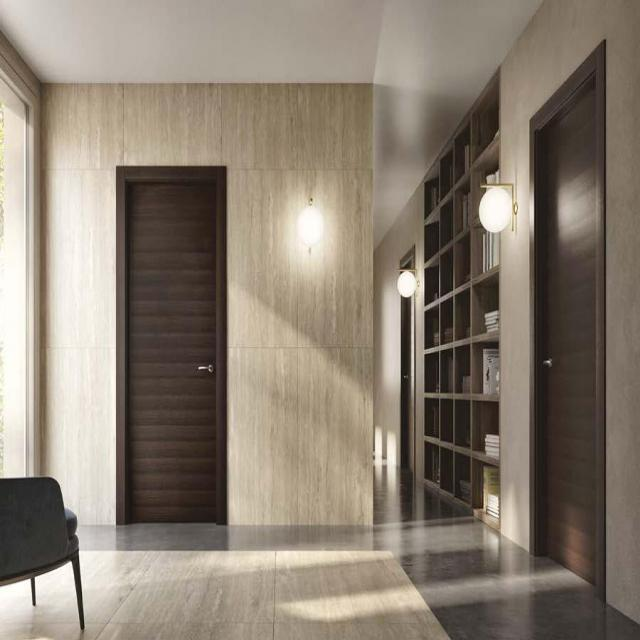close: (523, 31, 612, 608), (103, 157, 234, 544)
